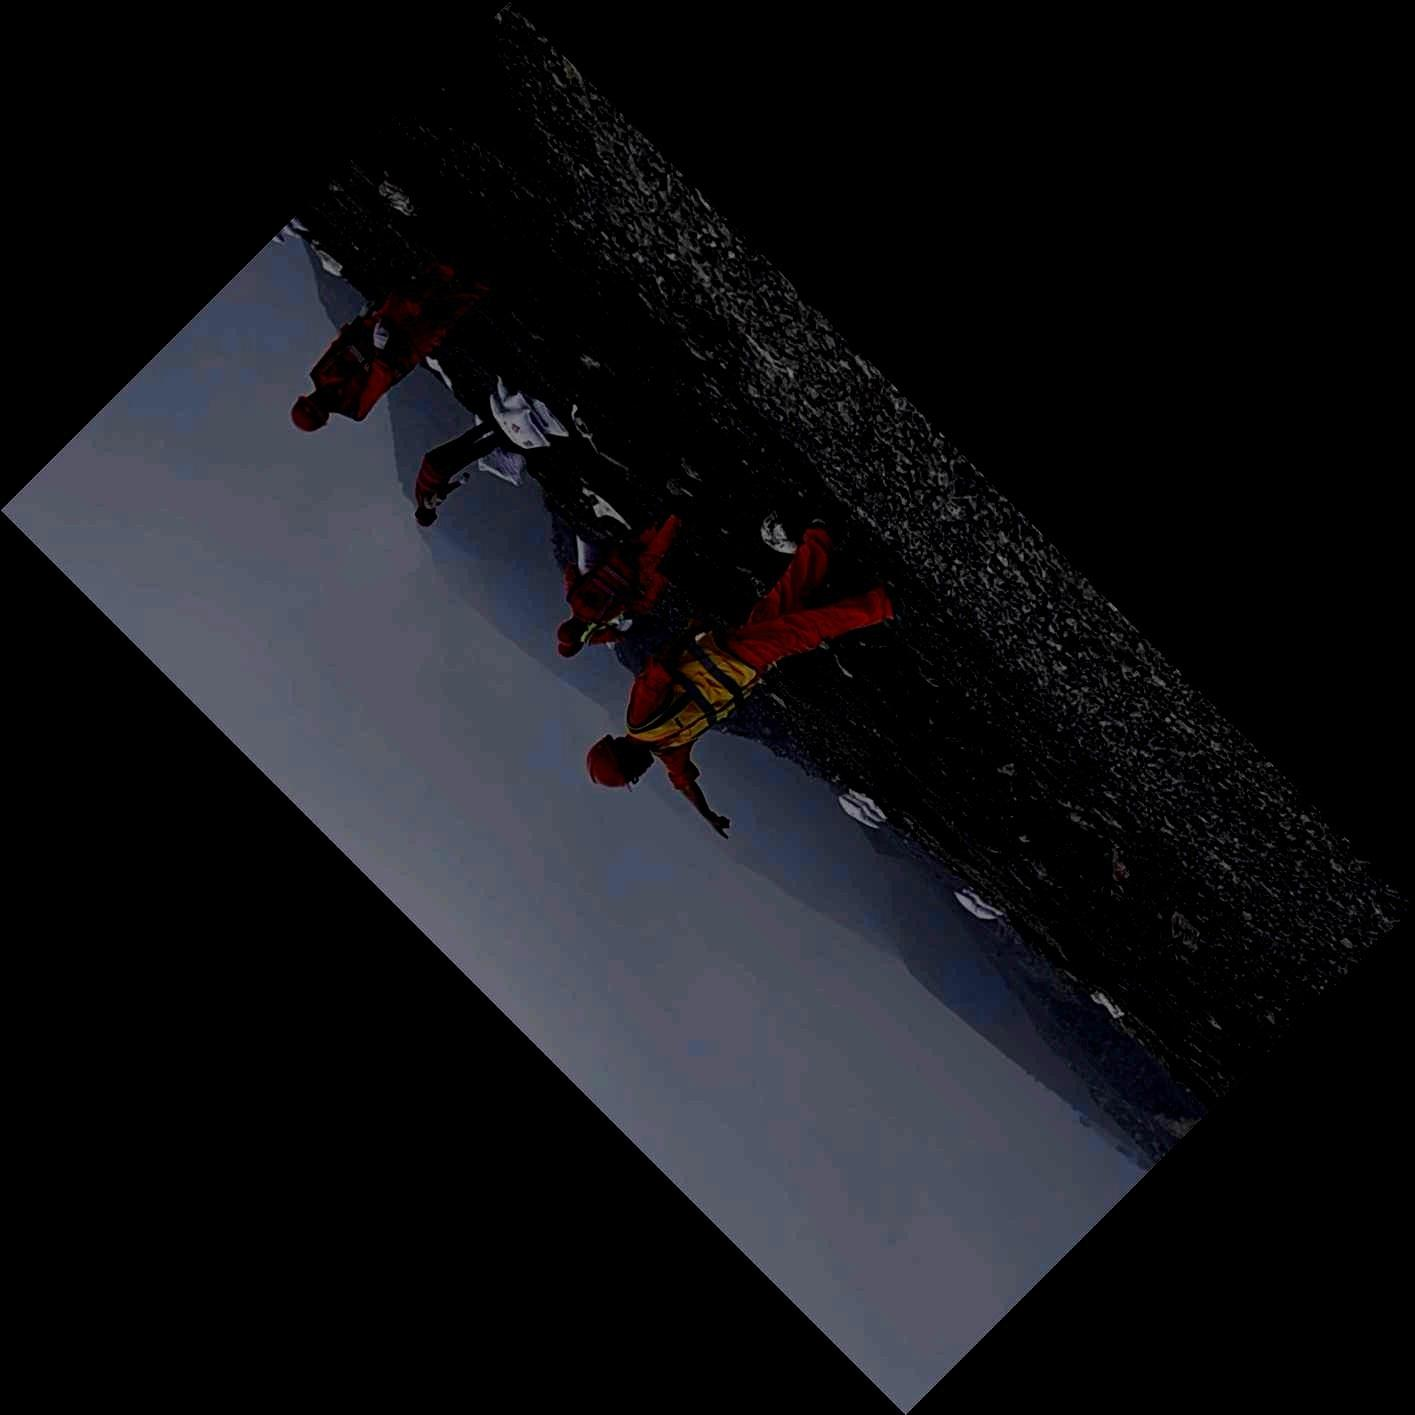helmet: (584, 733, 654, 792), (289, 390, 330, 433), (555, 614, 590, 647), (415, 505, 438, 527), (557, 641, 584, 660)
